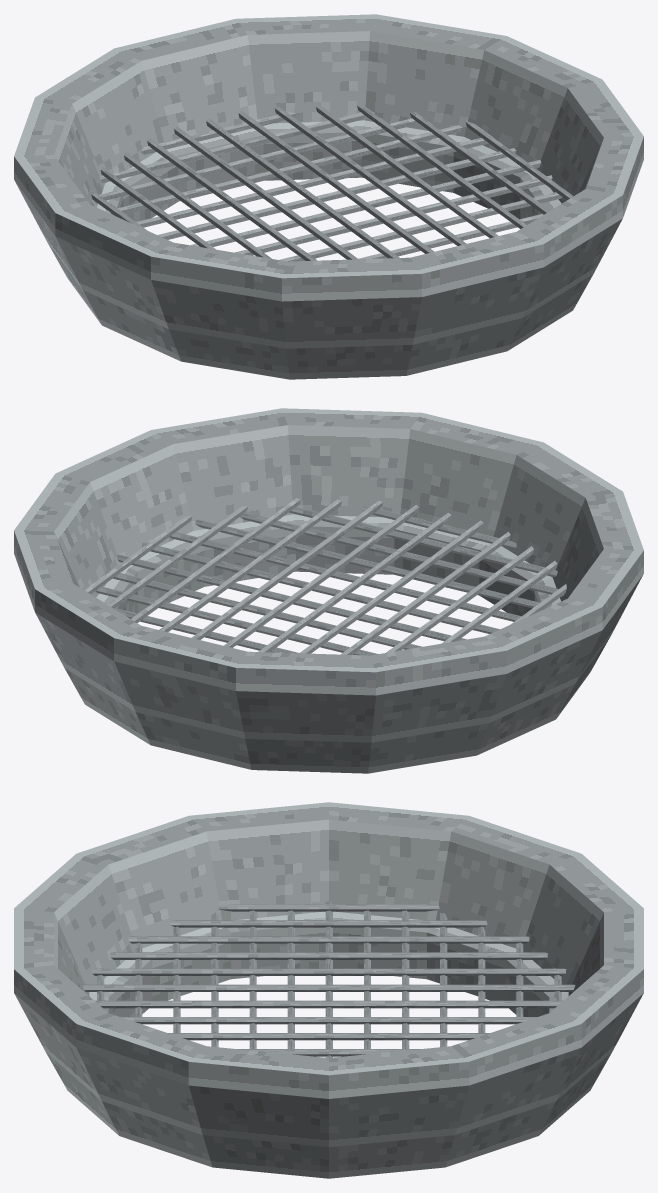
The model's file is sieve_steel.glb.
3 views of the same model, one above another, from view 1: azimuth 30°, elevation 25°; view 2: azimuth 150°, elevation 25°; view 3: azimuth 270°, elevation 25° (orthographic). The views are drawn at different scales.
Parts seen in each view (by area): view 1: block_stainless sieve ring, block_sieve wire mesh 0 (×10), block_crossed sieve wire 0 (×11); view 2: block_stainless sieve ring, block_sieve wire mesh 0 (×10), block_crossed sieve wire 0 (×11); view 3: block_stainless sieve ring, block_crossed sieve wire 0 (×10), block_sieve wire mesh 0 (×9).
Part boxes in pixels (x1,y1,x2,y2): block_stainless sieve ring: (14, 14, 643, 379); block_sieve wire mesh 0 (×10): (94, 112, 562, 261); block_crossed sieve wire 0 (×11): (100, 104, 572, 260); block_stainless sieve ring: (14, 408, 643, 773); block_sieve wire mesh 0 (×10): (95, 505, 563, 655); block_crossed sieve wire 0 (×11): (85, 498, 557, 654); block_stainless sieve ring: (14, 802, 643, 1178); block_crossed sieve wire 0 (×10): (82, 904, 575, 1056); block_sieve wire mesh 0 (×9): (173, 900, 485, 1057).
Size of the model in its own units: 0.1516 by 0.0328 by 0.1478.
Materials: 1 (1 with a texture image).
